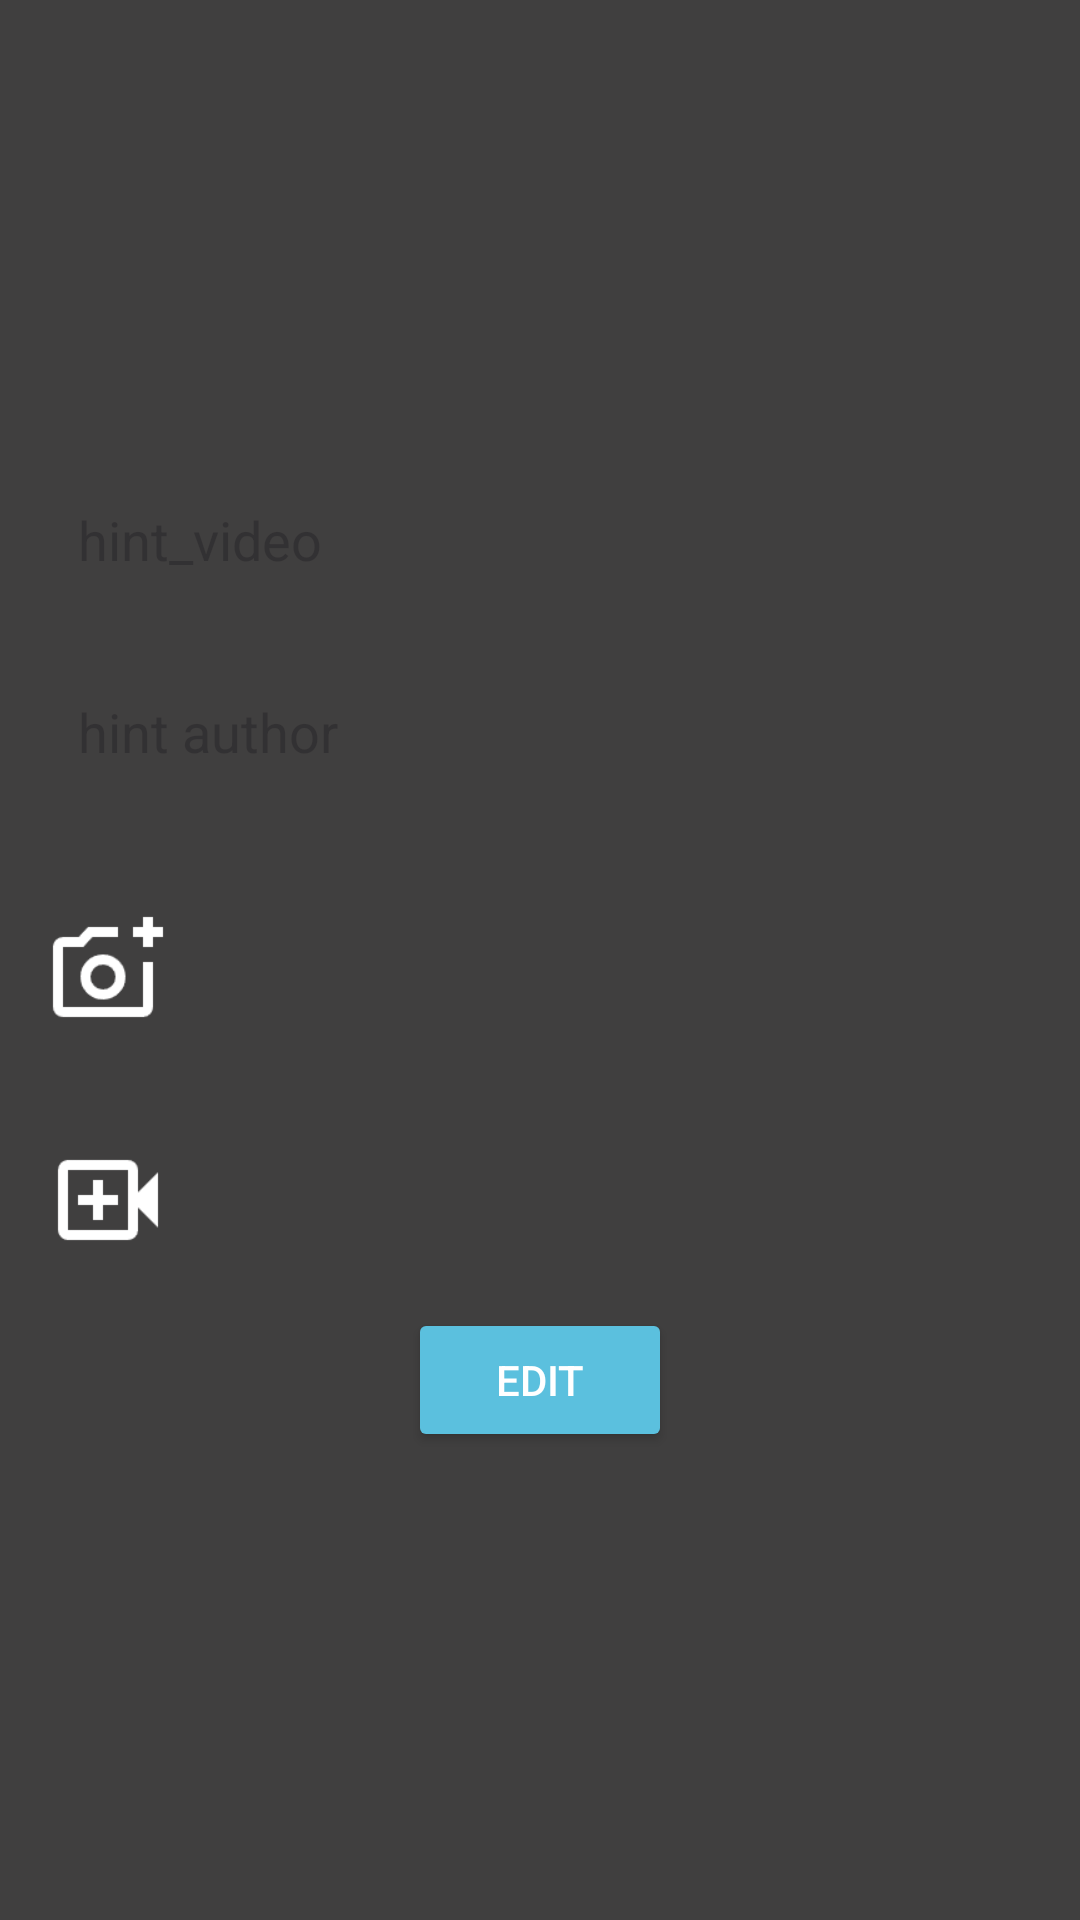

Named icons in this screenshot (1080×1920) and their centers, point (x, y):
add photo: point (108, 967)
addvideo: point (108, 1200)
